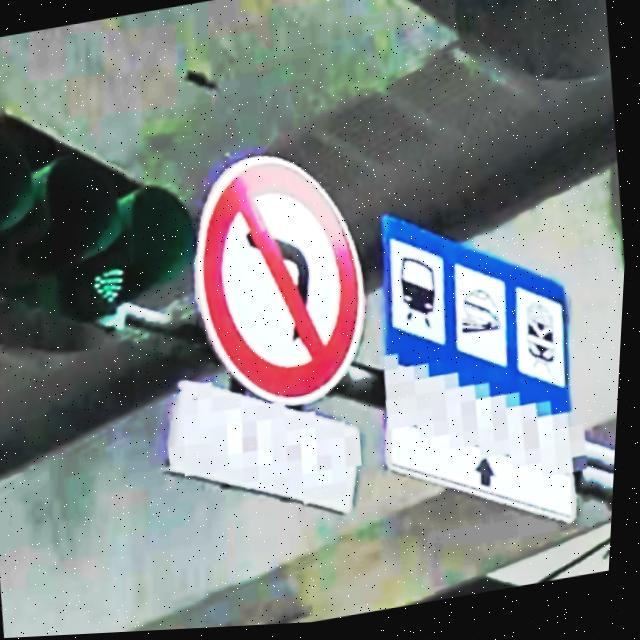noturnleft: (204, 168, 365, 400)
